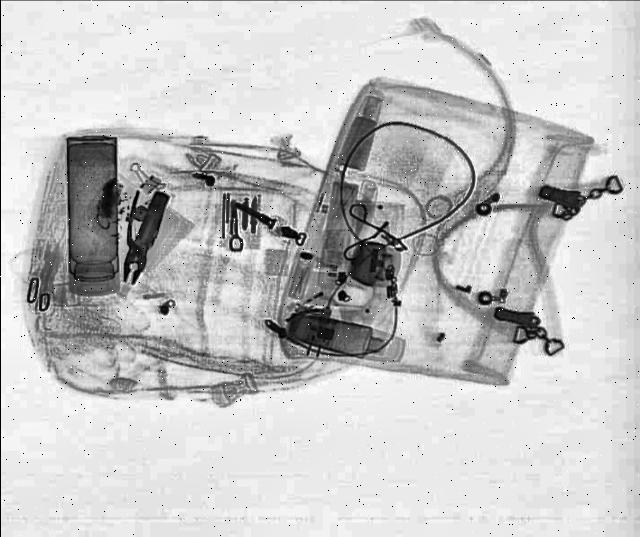Pliers: (115, 190, 168, 286)
